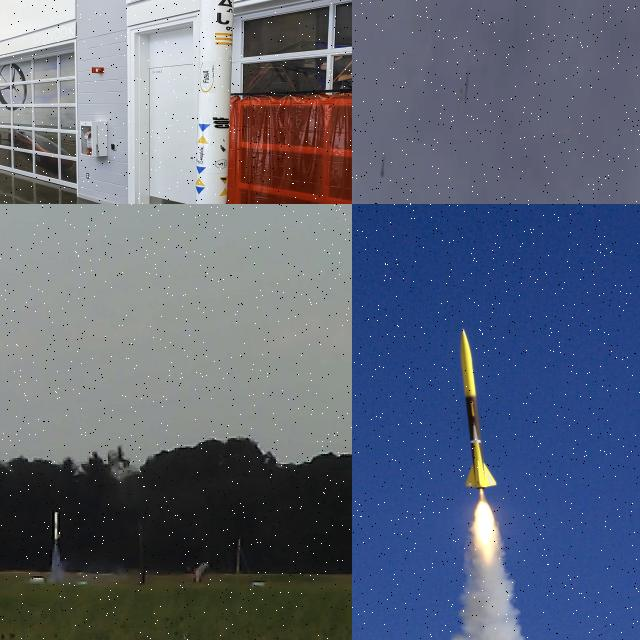Rocket: (195, 0, 234, 204), (460, 328, 498, 490), (52, 511, 61, 540), (380, 156, 386, 178)
